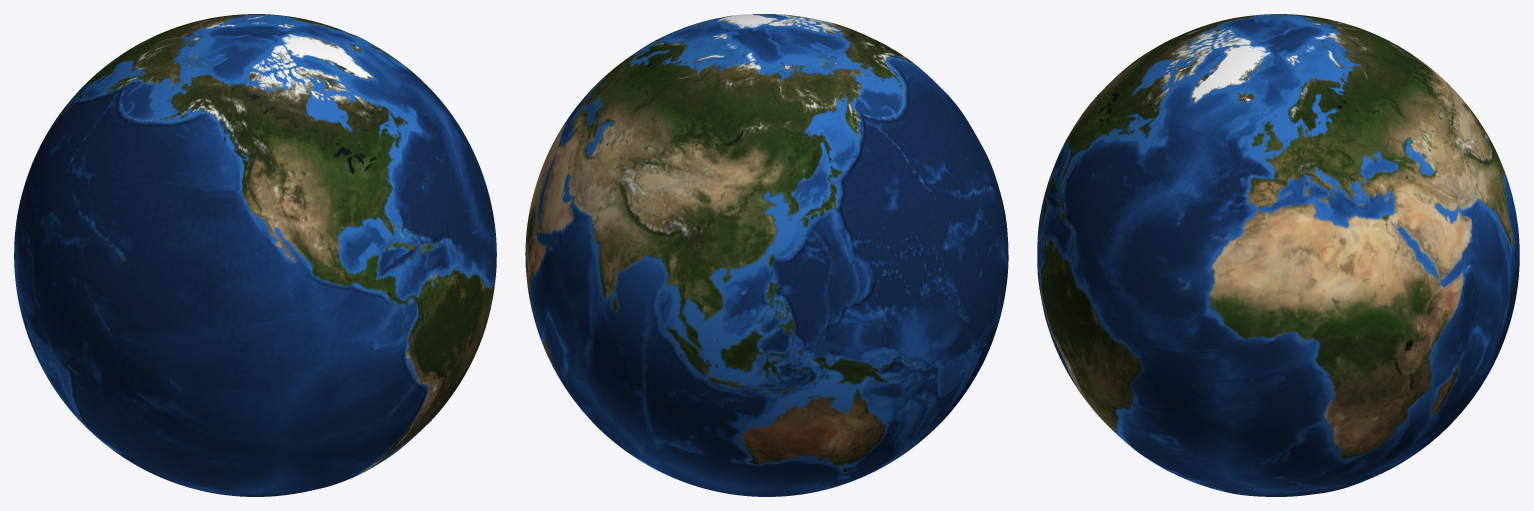
The model's file is earth-globe.glb.
3 views of the same model, side by side, from view 1: azimuth 30°, elevation 25°; view 2: azimuth 150°, elevation 25°; view 3: azimuth 270°, elevation 25° (orthographic).
Parts seen in each view (by area): view 1: Earth; view 2: Earth; view 3: Earth.
Boxes of the visible parts, x1,y1,x2,y2 form: Earth: (14,14,496,496); Earth: (525,14,1008,496); Earth: (1037,14,1519,496).
Bounding box in the file's own units: 2 × 2 × 2.
1 material, 1 textured.
